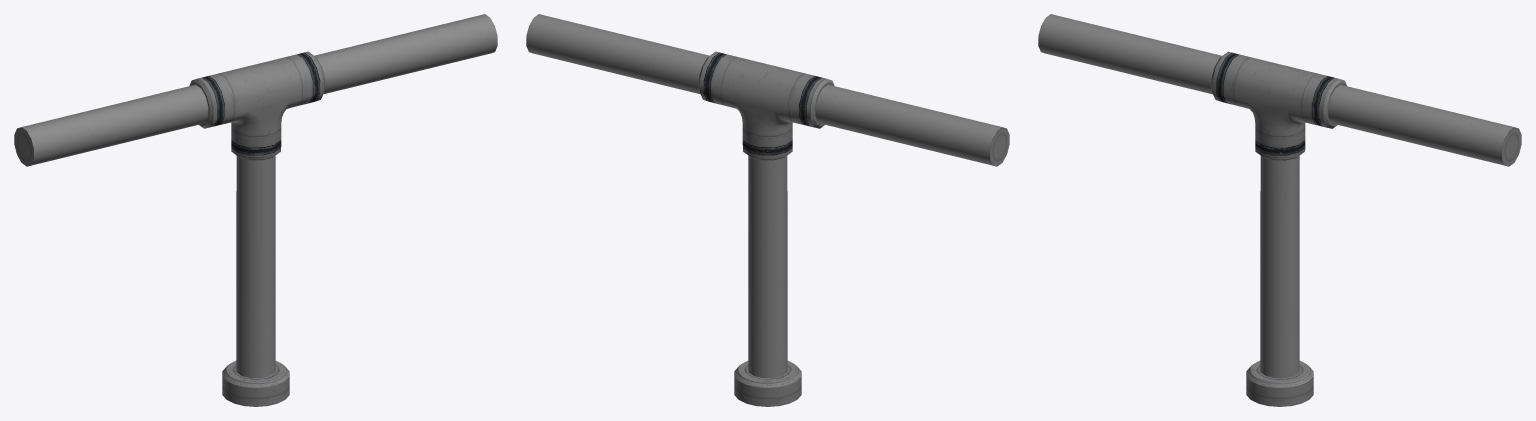
The model's file is GuardRail_01_Joint.fbx.
3 views of the same model, side by side, from view 1: azimuth 30°, elevation 25°; view 2: azimuth 150°, elevation 25°; view 3: azimuth 330°, elevation 25° (orthographic).
Visible parts, largest first — view 1: GuardRail_01_Joint; view 2: GuardRail_01_Joint; view 3: GuardRail_01_Joint.
Boxes of the visible parts, bbox=[...] form: GuardRail_01_Joint: bbox=[14, 14, 497, 406]; GuardRail_01_Joint: bbox=[526, 14, 1009, 406]; GuardRail_01_Joint: bbox=[1038, 14, 1521, 406].
Size of the model in its own units: 150 by 101 by 18.79.
